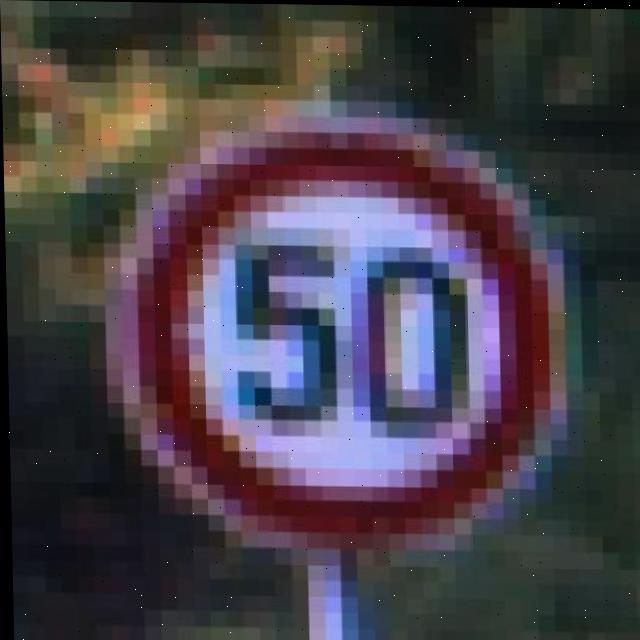Speed limit 50: (117, 113, 569, 551)
